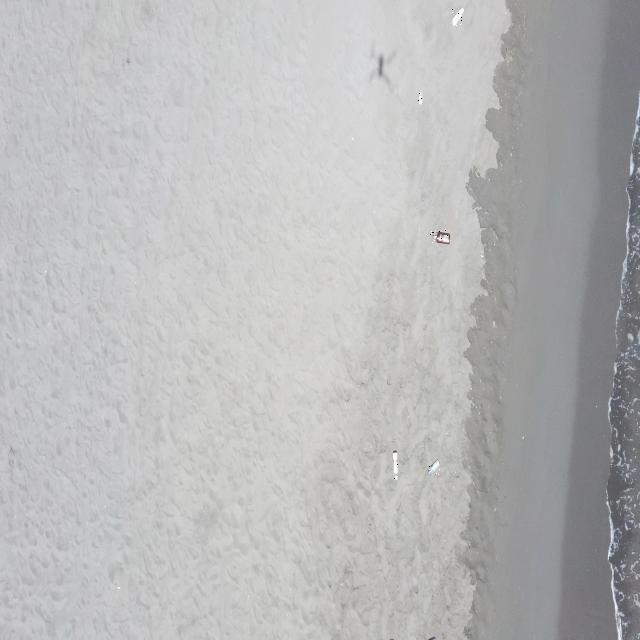Garbage: (428, 228, 449, 243), (452, 8, 464, 24), (427, 460, 439, 473), (435, 231, 448, 243), (392, 449, 396, 479), (417, 91, 422, 103)
